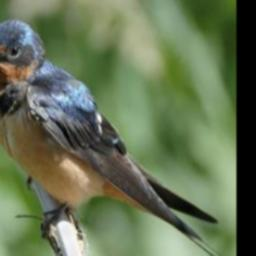Swallow: (0, 18, 233, 256)
